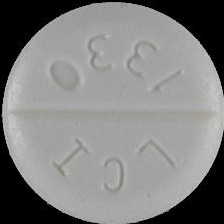42291-158: (0, 0, 224, 224)
